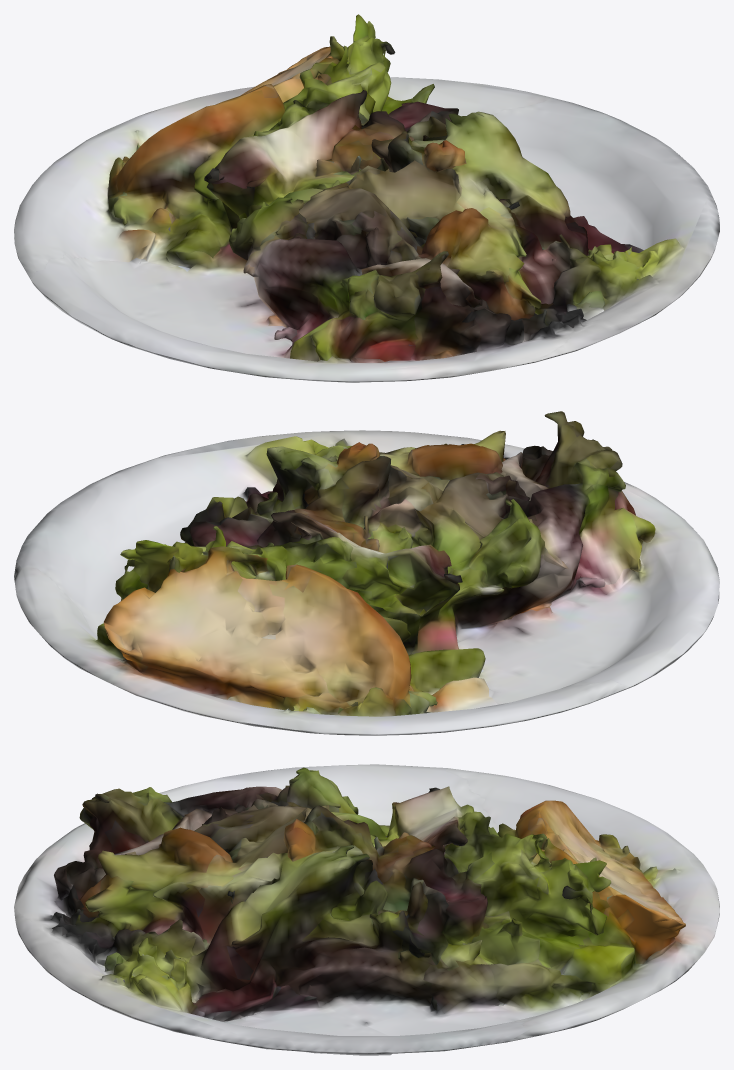
Rendered from ProSport_Harness_to_Booster_Seat-high.glb.
The picture shows the model from 3 angles, top to bottom: view 1: azimuth 30°, elevation 25°; view 2: azimuth 150°, elevation 25°; view 3: azimuth 270°, elevation 25°; orthographic projection.
Parts seen in each view (by area): view 1: ProSport_Harness_to_Booster_Seat; view 2: ProSport_Harness_to_Booster_Seat; view 3: ProSport_Harness_to_Booster_Seat.
Boxes of the visible parts, x1,y1,x2,y2 form: ProSport_Harness_to_Booster_Seat: (14, 14, 719, 382); ProSport_Harness_to_Booster_Seat: (14, 411, 719, 735); ProSport_Harness_to_Booster_Seat: (14, 764, 719, 1055).
Size of the model in its own units: 0.2269 by 0.0545 by 0.227.
Materials: 1 (1 with a texture image).
